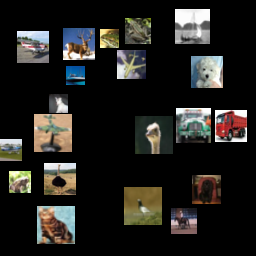airplane: (24, 11, 59, 46), (122, 126, 154, 158), (72, 141, 104, 173), (213, 142, 245, 174)
automobile: (35, 110, 70, 145), (175, 155, 204, 184), (21, 201, 47, 227), (178, 8, 200, 30), (85, 109, 107, 131)
bird: (71, 67, 100, 96)
cat: (155, 31, 181, 57), (175, 132, 197, 154)
deer: (60, 16, 86, 42), (62, 201, 88, 227)
dog: (92, 7, 130, 45)
frog: (110, 64, 148, 102), (192, 84, 227, 119), (10, 72, 32, 94)
